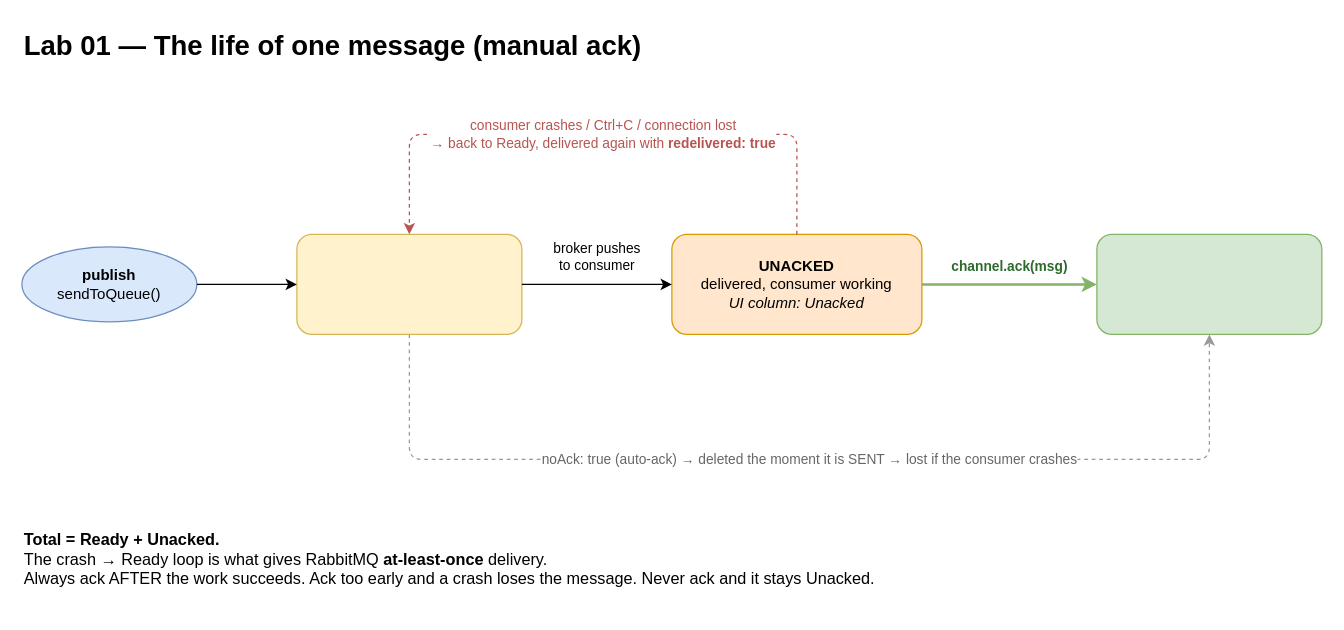
The diagram is 1344 pixels wide and 630 high, and some of its shapes have lost their labels. The box of each missing label's shape, as (x1, y1, x2, y2) in pixels:
DELETED gone from the broker: (1096, 233, 1322, 334)
READY waiting in the queue UI column: Ready: (296, 233, 522, 334)
